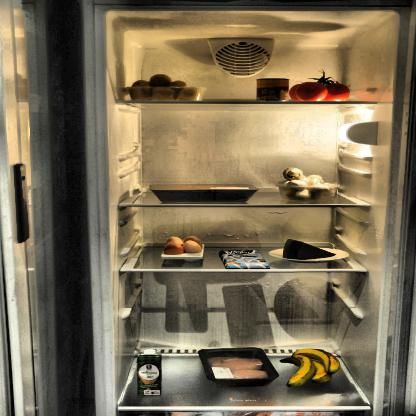banana: (280, 347, 346, 388)
cheese: (282, 239, 343, 261)
chicken: (204, 352, 278, 380)
chocolate: (220, 248, 270, 272)
corn: (256, 78, 292, 102)
eggs: (165, 235, 206, 256)
heavy_cream: (136, 348, 161, 400)
mushrooms: (279, 165, 341, 200)
potato: (128, 72, 204, 101)
tomato: (290, 82, 353, 102)
